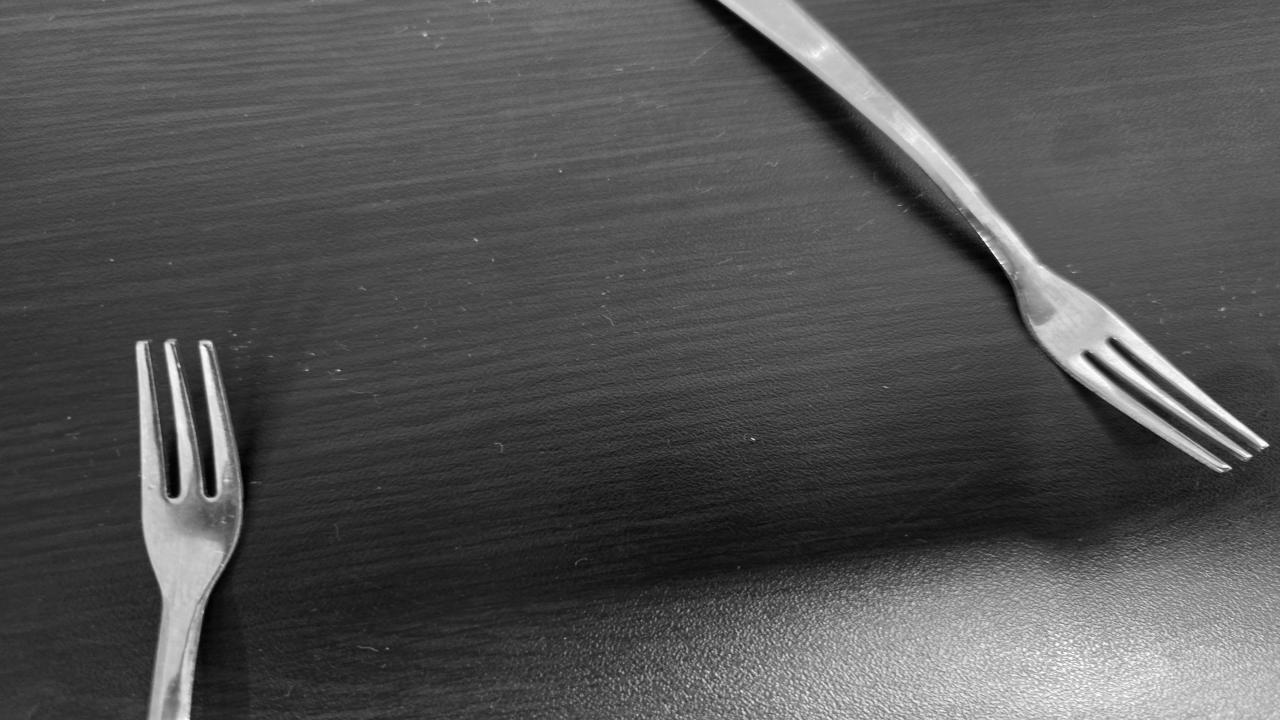fork: (652, 4, 1258, 470), (129, 335, 251, 720)
